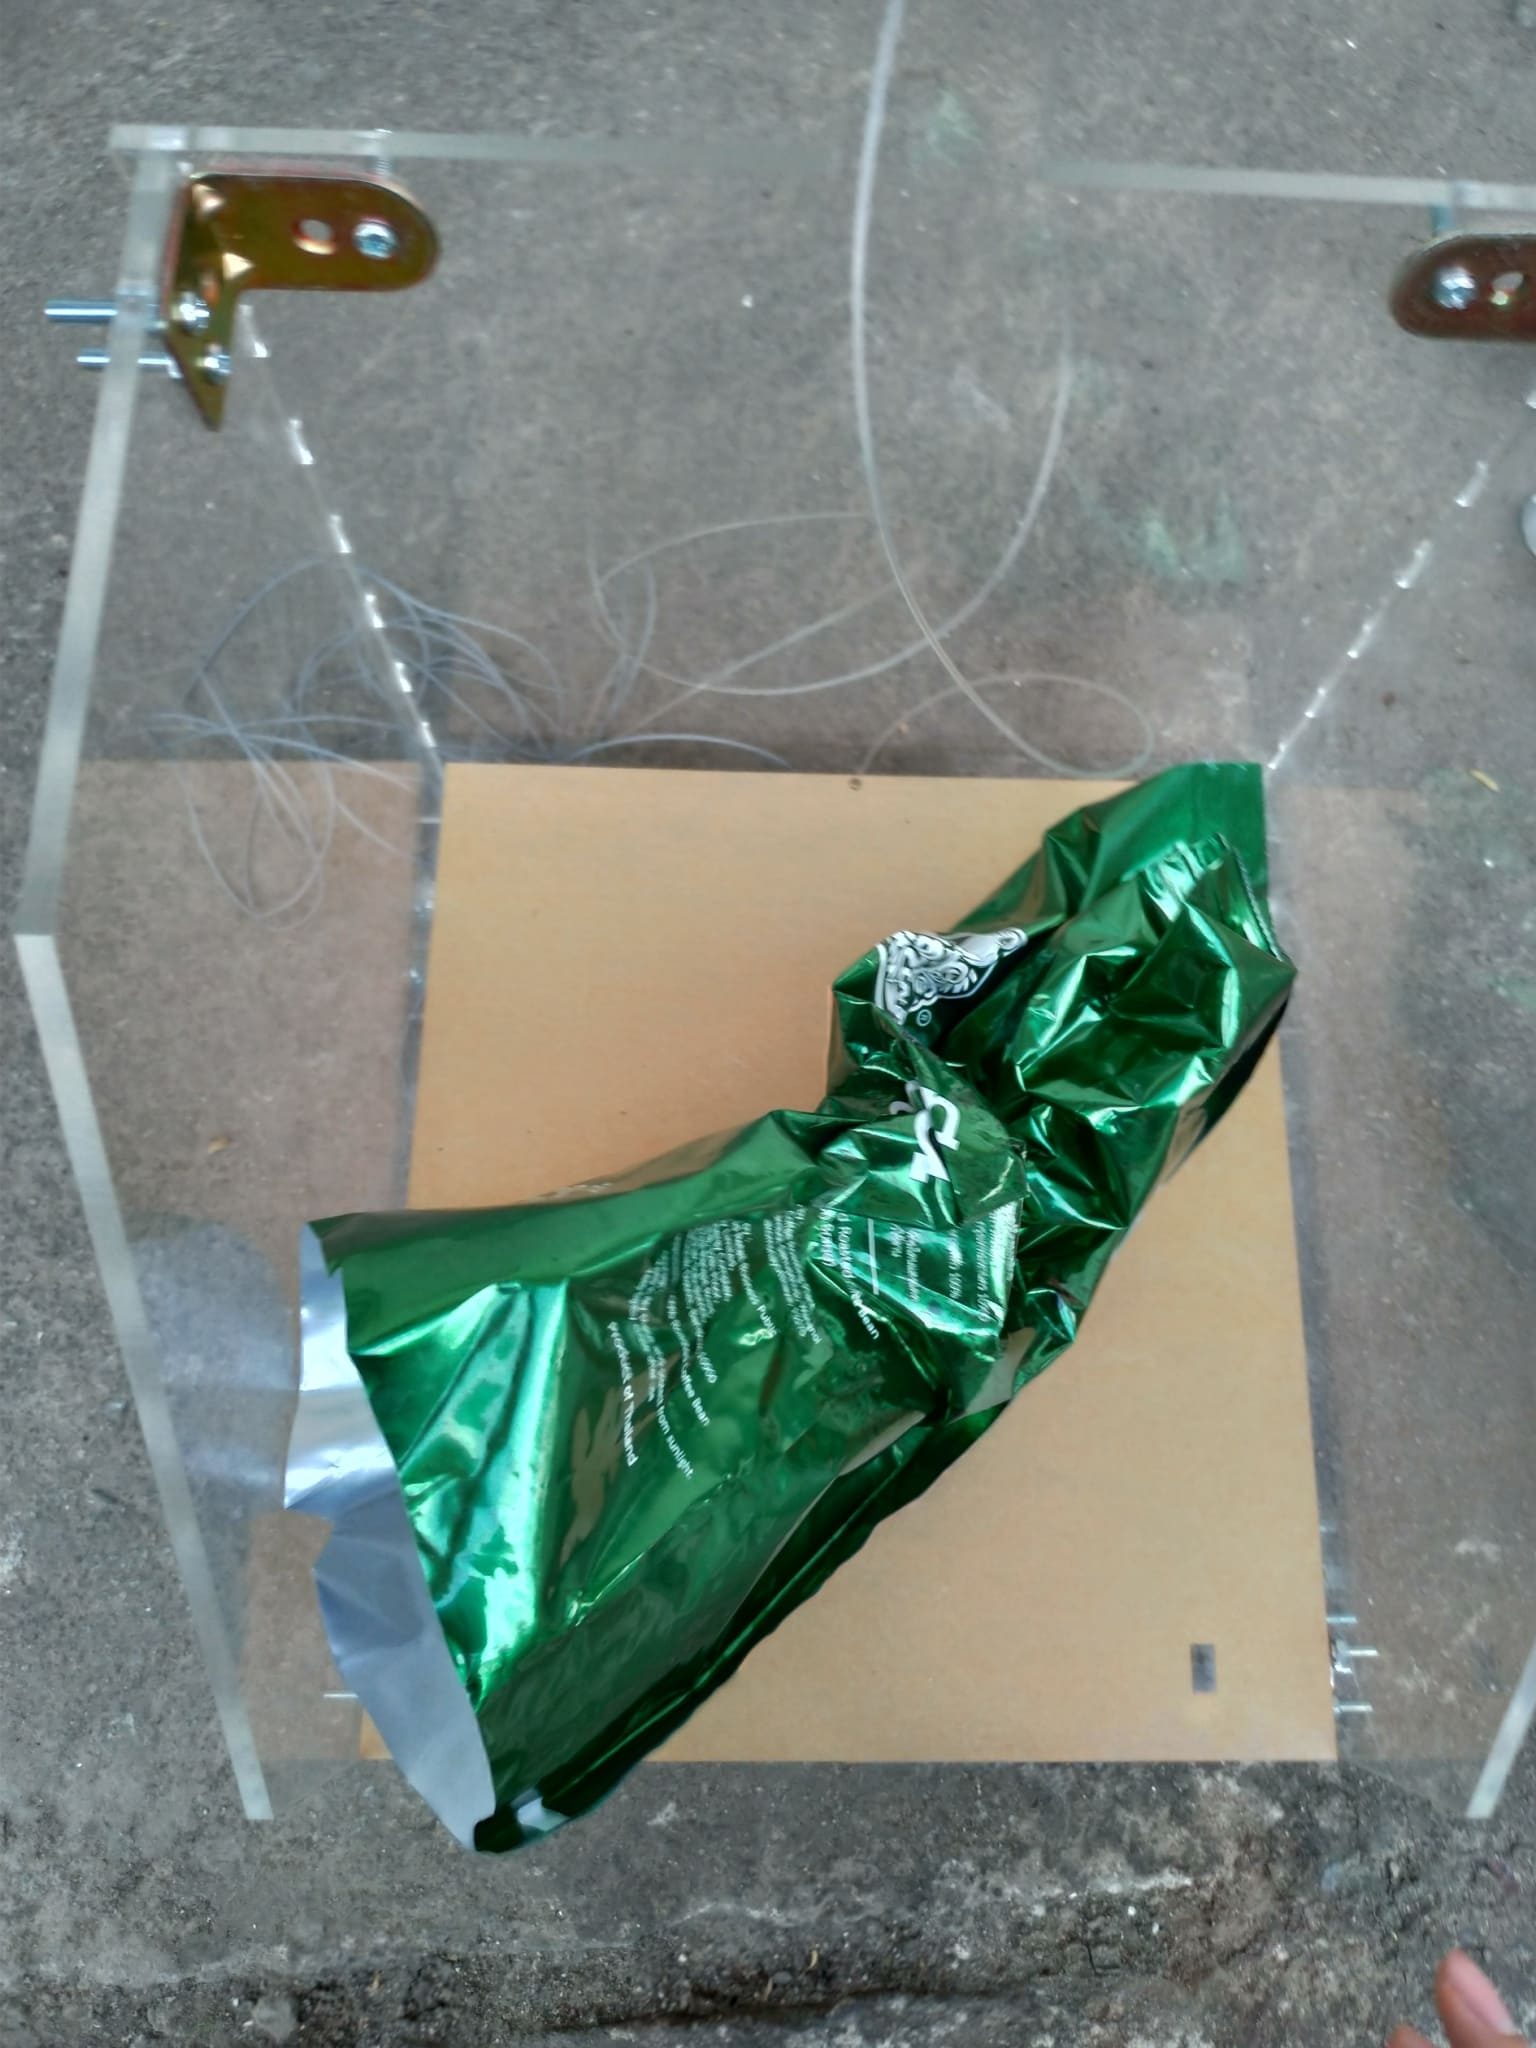Others: (282, 751, 1294, 1861)
